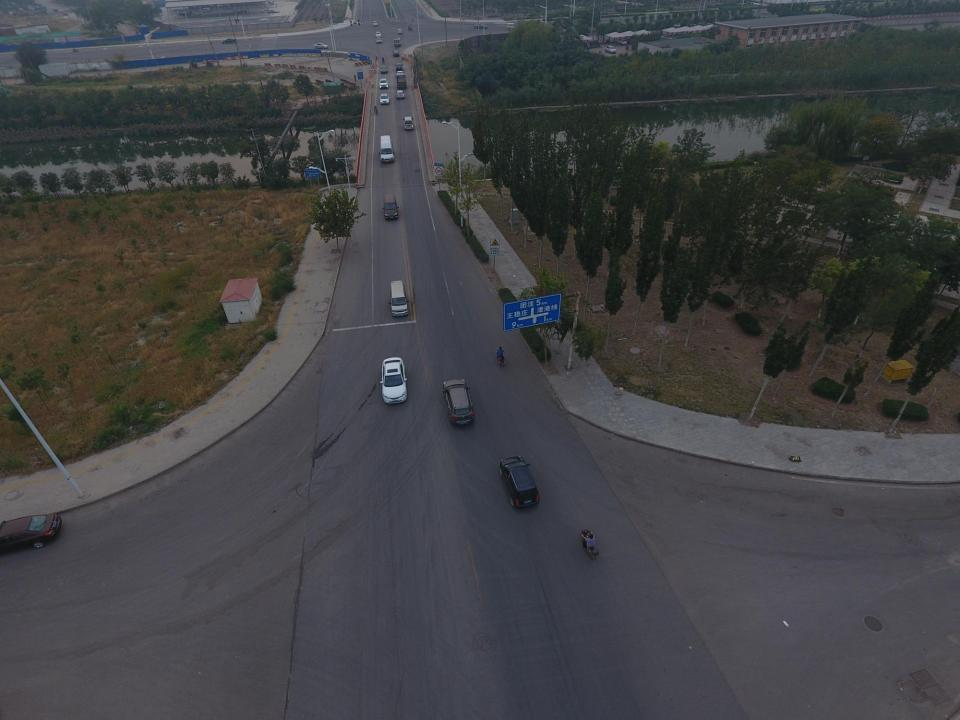car: (0, 514, 62, 554), (499, 455, 540, 508), (442, 378, 475, 426), (380, 356, 408, 404), (378, 78, 388, 89), (379, 94, 389, 105), (395, 90, 405, 100), (605, 45, 616, 54), (314, 43, 328, 49), (221, 38, 237, 43), (474, 23, 487, 29), (580, 42, 590, 49), (616, 39, 627, 45), (392, 50, 400, 57), (380, 66, 387, 74), (395, 63, 402, 70), (396, 71, 404, 77), (397, 28, 403, 34), (375, 31, 381, 37), (376, 38, 382, 44), (267, 1, 274, 4), (373, 21, 377, 26)
truck: (396, 75, 406, 89), (393, 38, 401, 47)
van: (389, 280, 408, 317), (382, 193, 399, 221), (378, 135, 394, 162), (403, 116, 413, 130), (506, 22, 517, 29), (202, 8, 210, 12)
